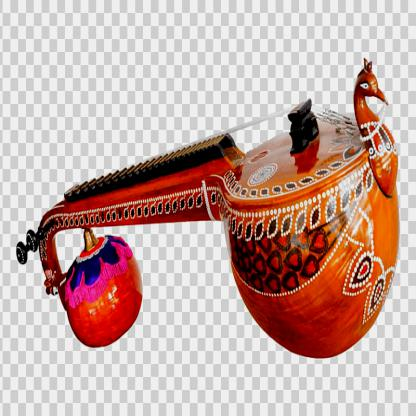Veena: (25, 114, 399, 253)
